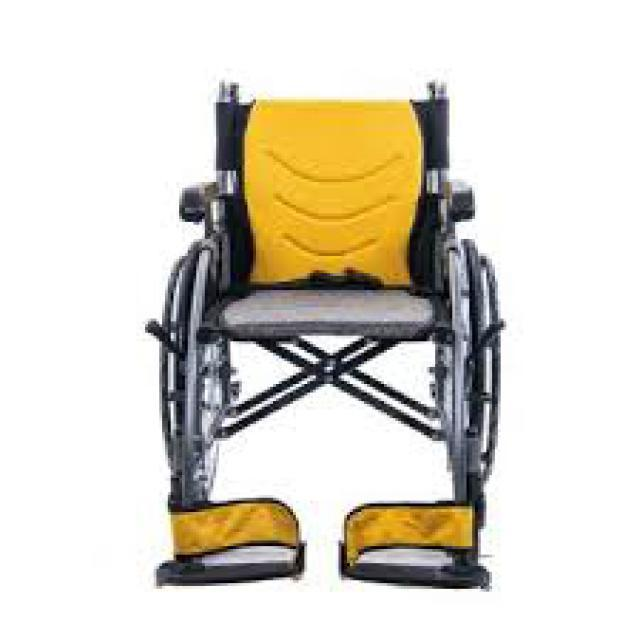wheelchair: (148, 68, 512, 609)
